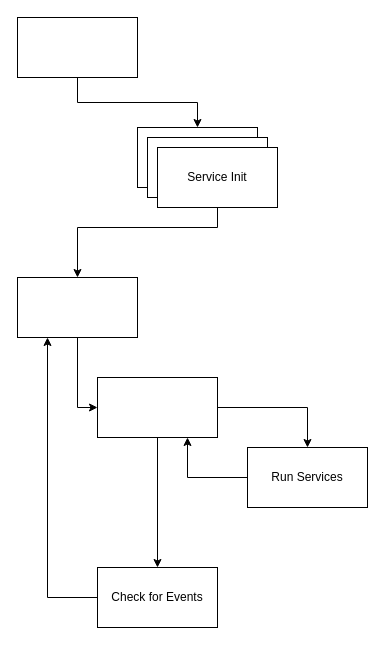
Some shapes in this 385 by 645 pixel diagram are drawn without their labels. Each missing label, with the centre of its shape:
"ES_Initialize" belongs at point (77, 47).
"ES_Run" belongs at point (77, 307).
"While the Event queue is not empty" belongs at point (157, 407).
